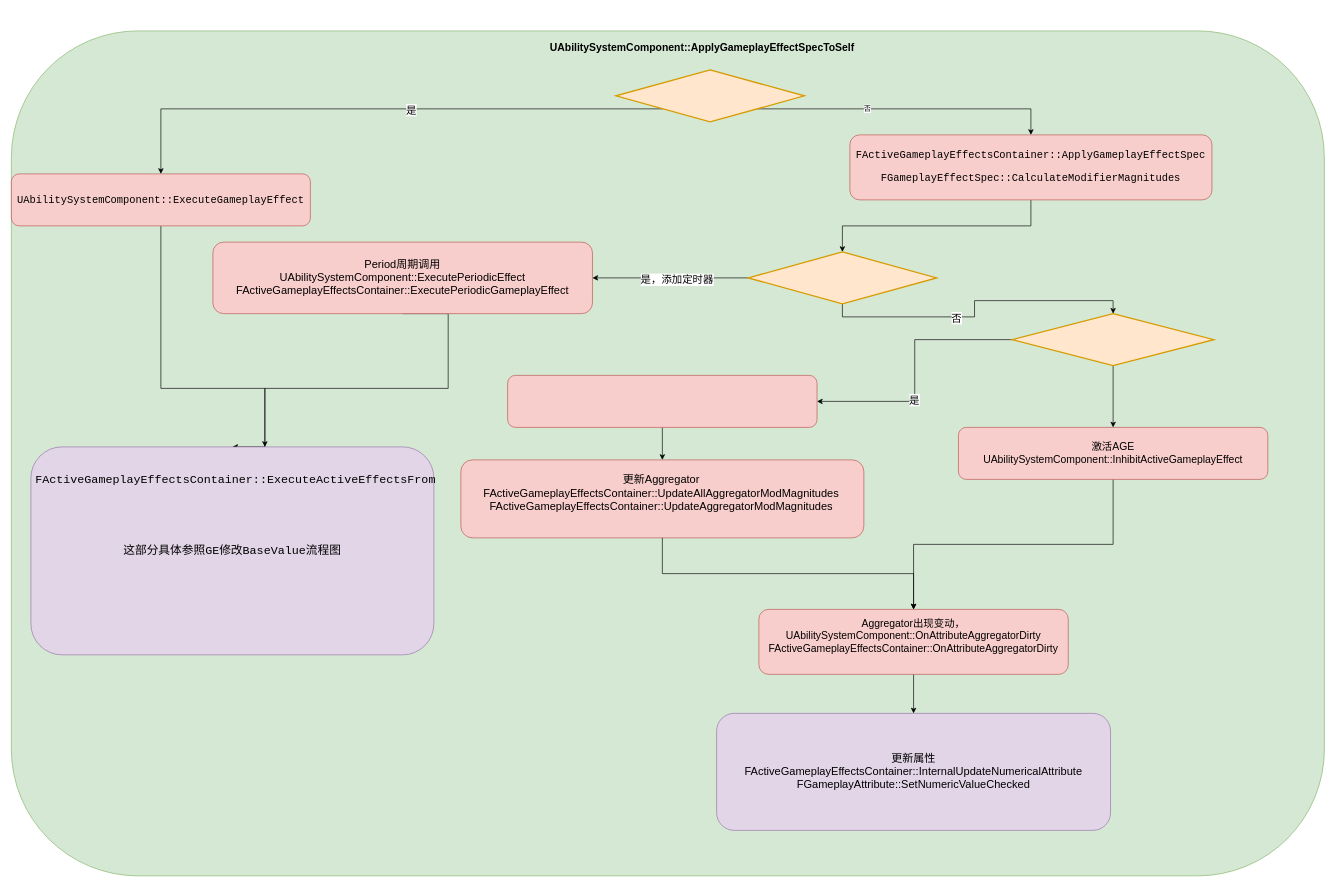
The diagram is 1336 pixels wide and 887 high, and some of its shapes have lost their labels. Here are the shapes that lost their labels. From the top down, the centre of each, then its label:
At (x=710, y=95): "是否为InstantGE".
At (x=842, y=277): "是否存在period周期调用".
At (x=1112, y=339): "是否已经存在相同AGE".
At (x=662, y=401): "修改AGE层数 FActiveGameplayEffectsContainer::OnStackCountChange".
